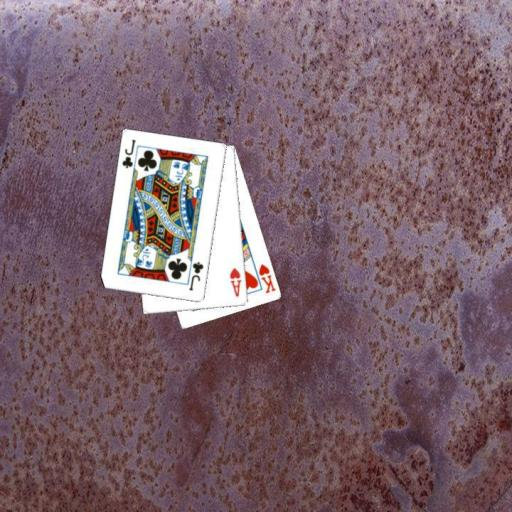AH: (227, 265, 243, 299)
JC: (187, 259, 206, 292), (119, 136, 137, 170)
KH: (256, 261, 278, 294)
